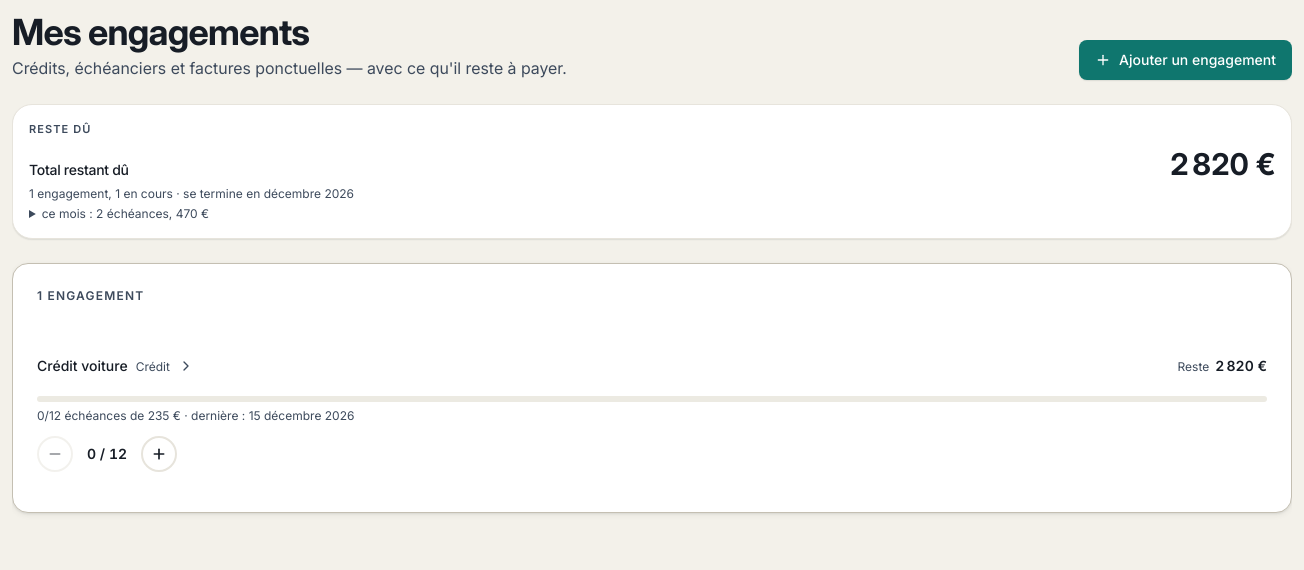
Test: CommitmentsClient — v3 shape › E5: « ce mois » opens on each instalment that makes the amount
The image size is (1304, 570).
Click the heading with test id "commitments-head-this-month" at (125,213), box 42,206 -> 209,220
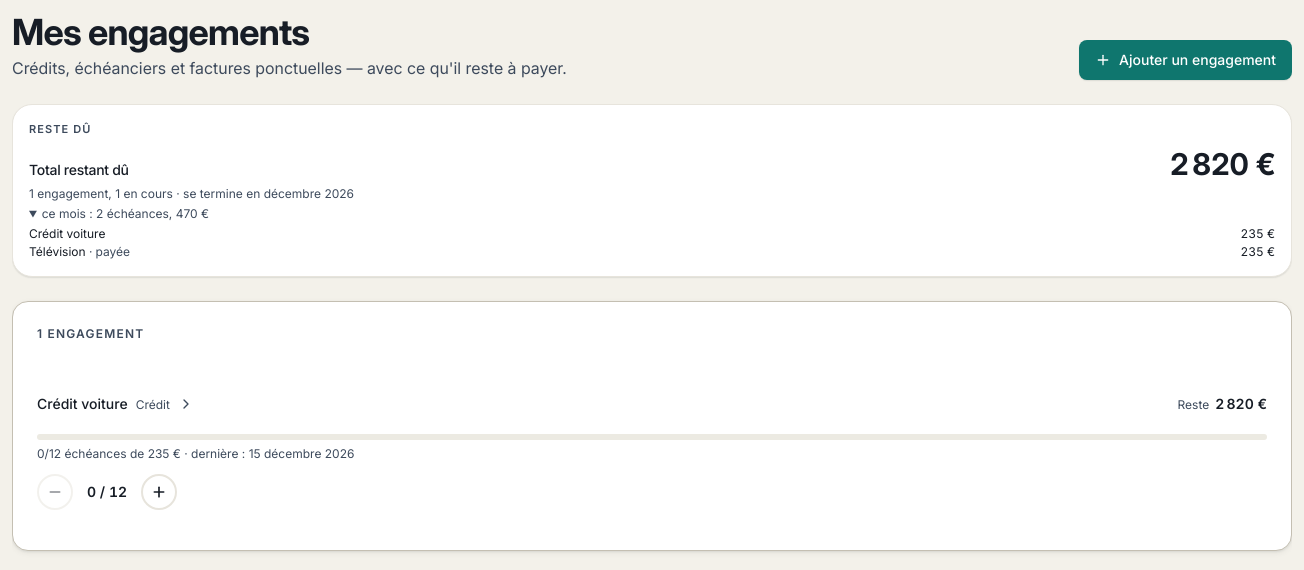
Expected: the list item with test id "^commitments-this-month-part-" is shown, 29,226 -> 1275,242
